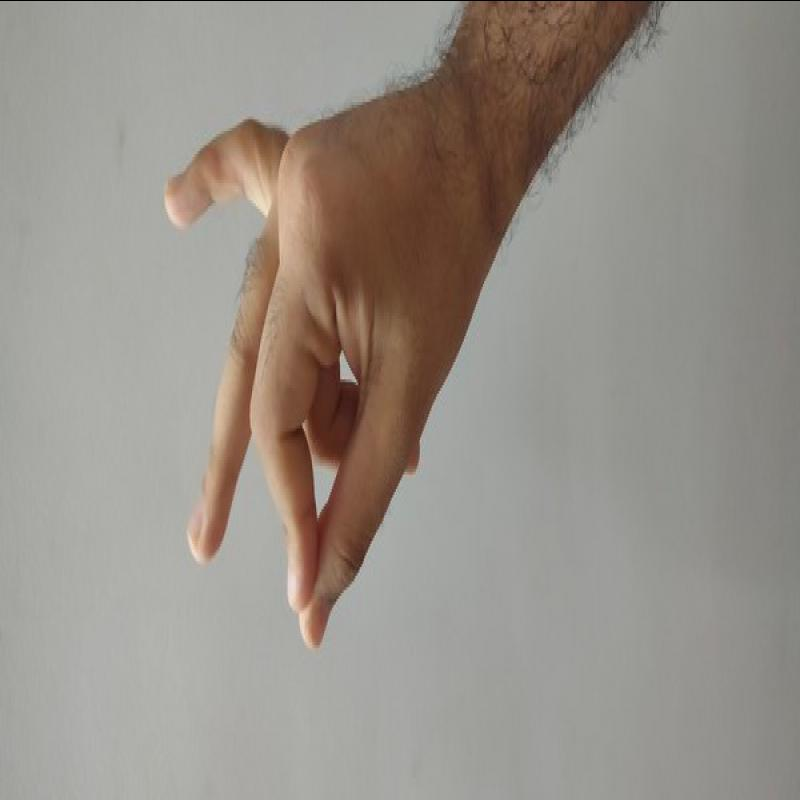Katakam: (125, 88, 518, 680)
